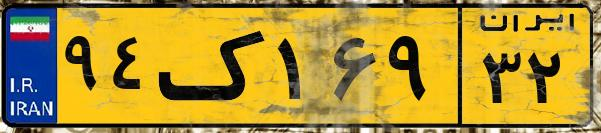1: (270, 28, 330, 110)
2: (525, 38, 570, 115)
3: (475, 38, 525, 113)
4: (110, 28, 158, 98)
6: (330, 28, 385, 110)
9: (385, 28, 445, 110), (57, 26, 110, 100)
ک: (158, 12, 270, 120)
